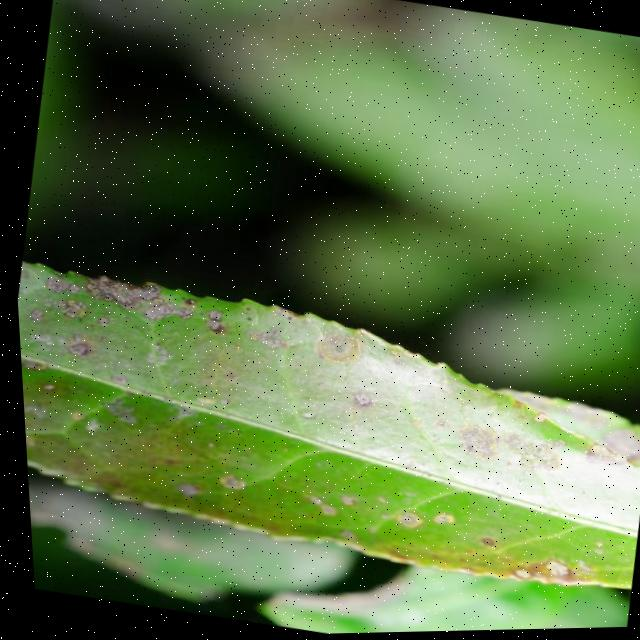Tea red rust: (12, 249, 637, 584)
